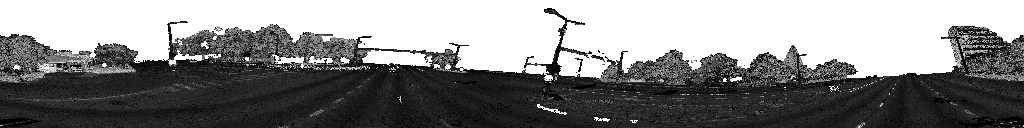gantry_sign_pole: (544, 47, 621, 95), (353, 47, 456, 72)
light_pole: (544, 8, 585, 48), (941, 38, 971, 85), (167, 22, 187, 76), (796, 55, 806, 87), (269, 33, 278, 66), (450, 42, 469, 56), (355, 36, 373, 49), (523, 57, 533, 71), (575, 59, 582, 79), (619, 50, 629, 62)
traffic_pole: (243, 51, 255, 69)
